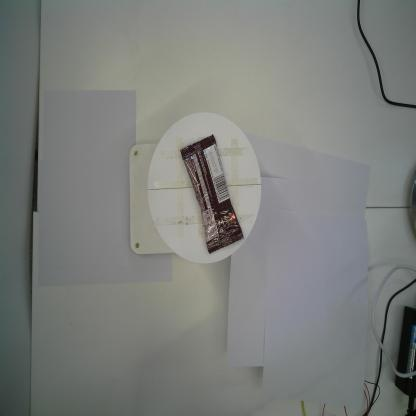Chocolate: (178, 132, 244, 257)
